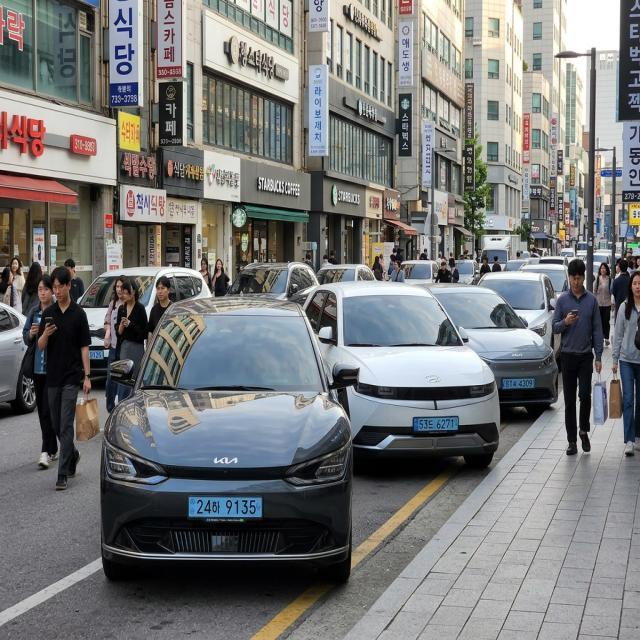car: (184, 490, 270, 530), (410, 406, 465, 444), (500, 372, 539, 397)
carev: (187, 495, 197, 520), (256, 497, 263, 521), (502, 371, 509, 395), (455, 415, 462, 434), (413, 416, 419, 436), (531, 376, 537, 391)
